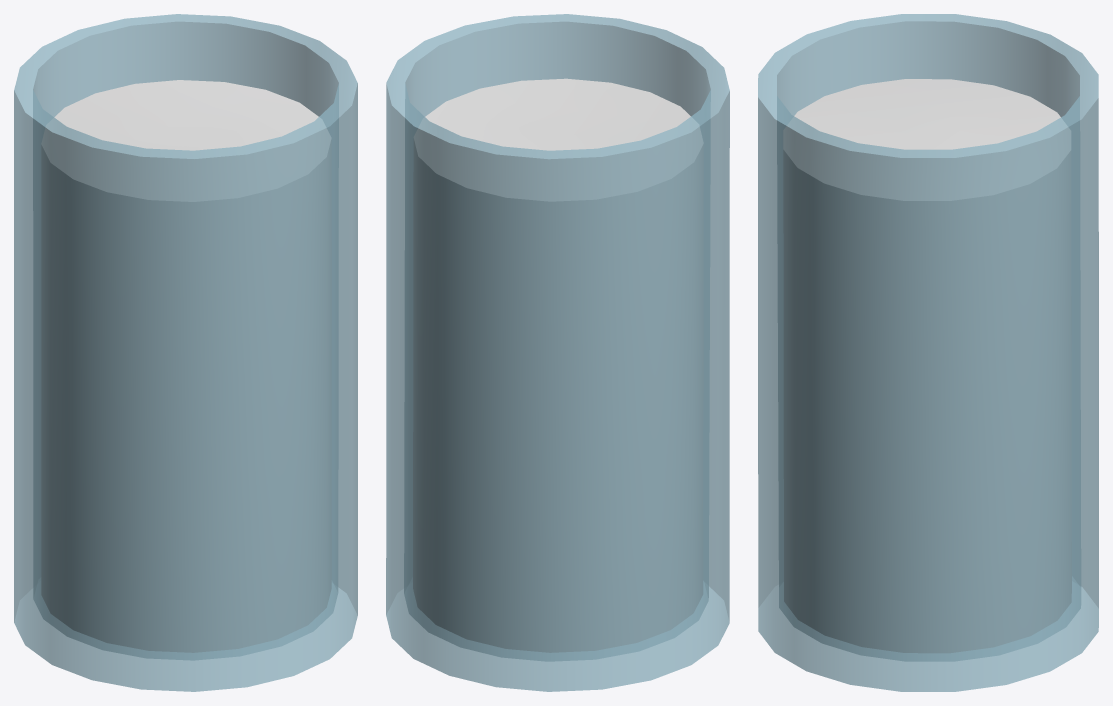
File: Glass.fbx
The picture shows the model from 3 angles, left to right: view 1: azimuth 30°, elevation 25°; view 2: azimuth 150°, elevation 25°; view 3: azimuth 270°, elevation 25°; orthographic projection.
Visible parts, largest first — view 1: Glass; view 2: Glass; view 3: Glass.
Boxes of the visible parts, <box> form: Glass: <box>14,14,357,691</box>; Glass: <box>386,14,729,691</box>; Glass: <box>758,14,1098,691</box>.
Size of the model in its own units: 358 by 619 by 358.
